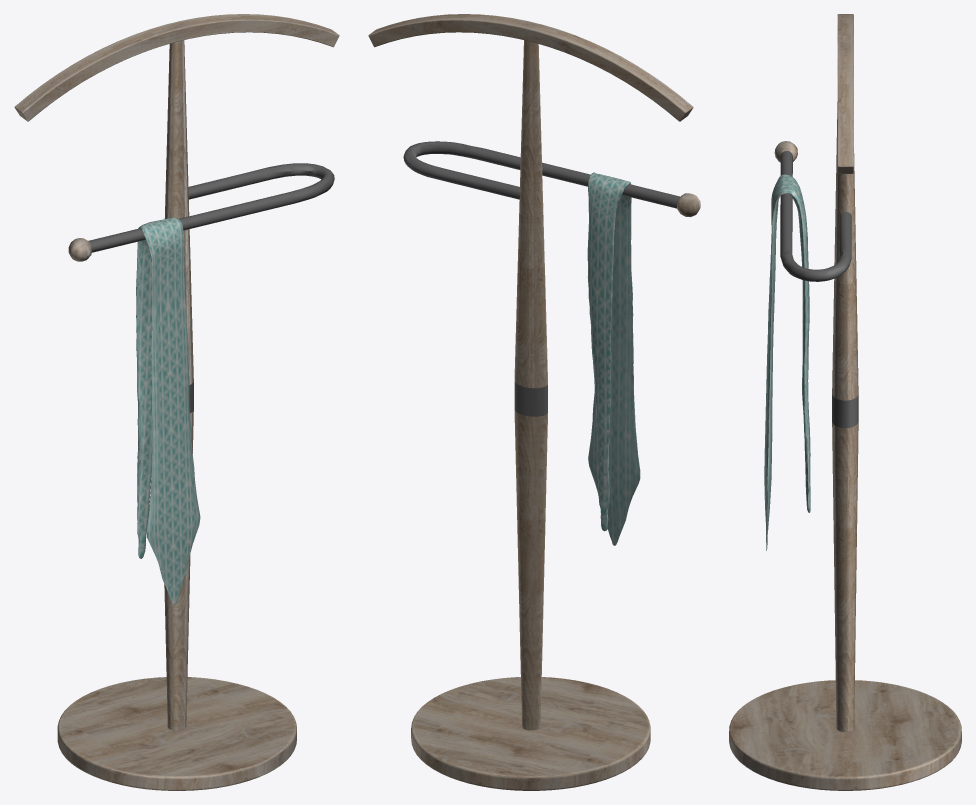
The model's file is raw_model.obj.
3 views of the same model, side by side, from view 1: azimuth 30°, elevation 25°; view 2: azimuth 150°, elevation 25°; view 3: azimuth 270°, elevation 25° (orthographic). The views are drawn at different scales.
Parts seen in each view (by area): view 1: solid_003, solid_001, solid_002; view 2: solid_003, solid_001, solid_002; view 3: solid_003, solid_001, solid_002.
Boxes of the visible parts, <box> form: solid_003: <box>14,14,339,790</box>; solid_001: <box>136,217,200,604</box>; solid_002: <box>88,163,334,413</box>; solid_003: <box>368,14,700,790</box>; solid_001: <box>587,172,640,545</box>; solid_002: <box>403,141,679,416</box>; solid_003: <box>729,14,961,790</box>; solid_001: <box>764,174,810,550</box>; solid_002: <box>780,150,858,428</box>.
Bounding box in the file's own units: 0.4555 × 0.9813 × 0.2976.
1 material, 1 textured.
